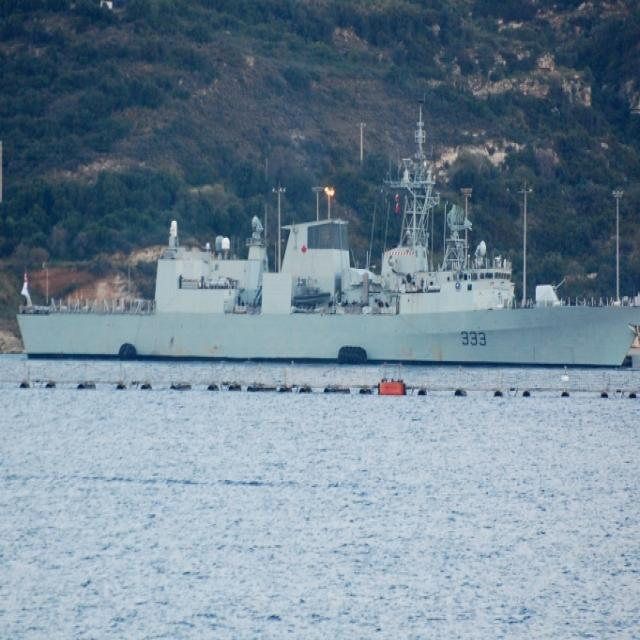Fragata: (9, 100, 640, 364)
